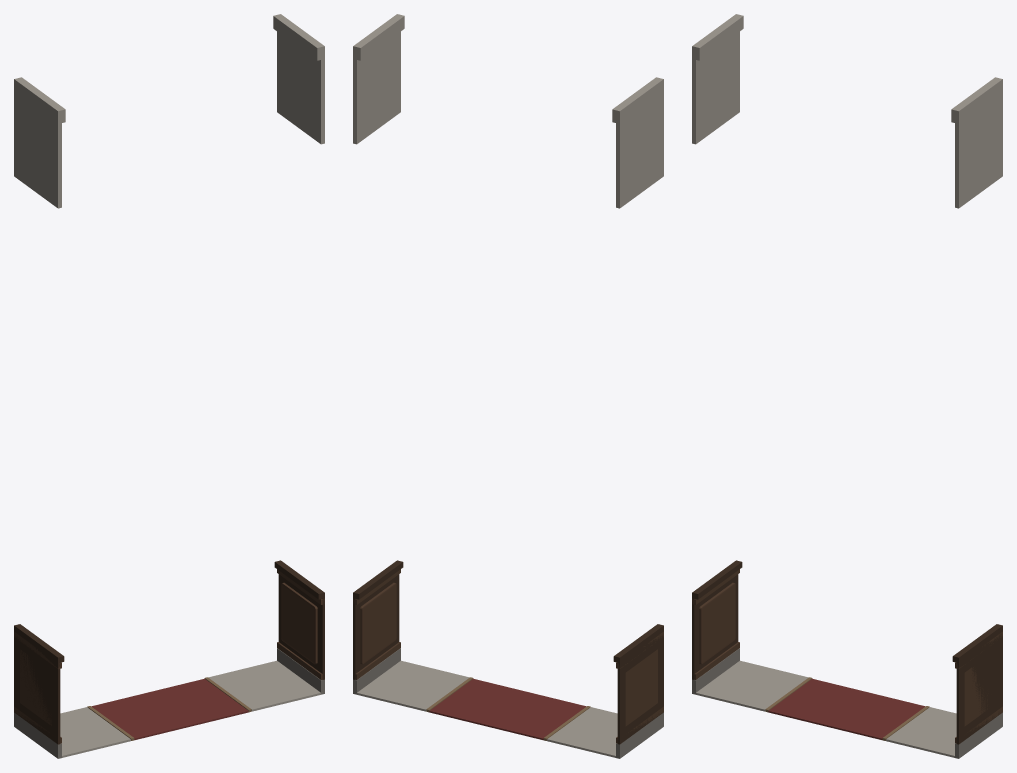
The model's file is gutter_panel.glb.
3 views of the same model, side by side, from view 1: azimuth 30°, elevation 25°; view 2: azimuth 150°, elevation 25°; view 3: azimuth 330°, elevation 25° (orthographic).
Parts seen in each view (by area): view 1: m1_gutter_panel; view 2: m1_gutter_panel; view 3: m1_gutter_panel.
Boxes of the visible parts, box(x1,y1,x2,y2) form: m1_gutter_panel: box(14, 14, 324, 758); m1_gutter_panel: box(353, 14, 663, 758); m1_gutter_panel: box(692, 14, 1002, 758).
Bounding box in the file's own units: 3.5 × 8.12 × 1.
